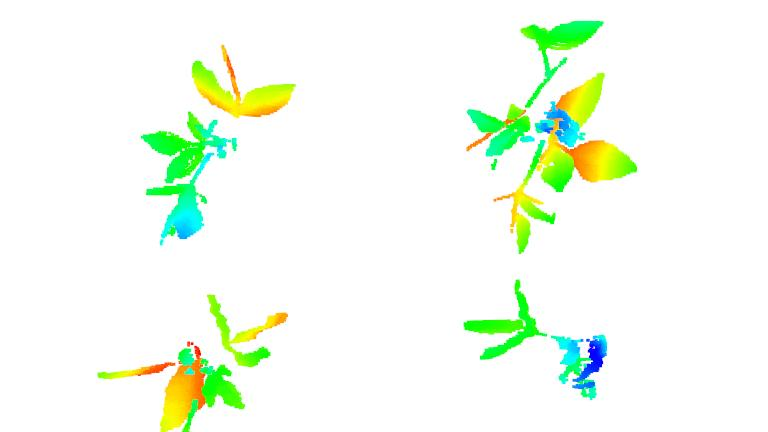mungbean: (464, 10, 644, 254), (134, 36, 305, 251), (156, 281, 301, 432), (461, 278, 605, 403)
